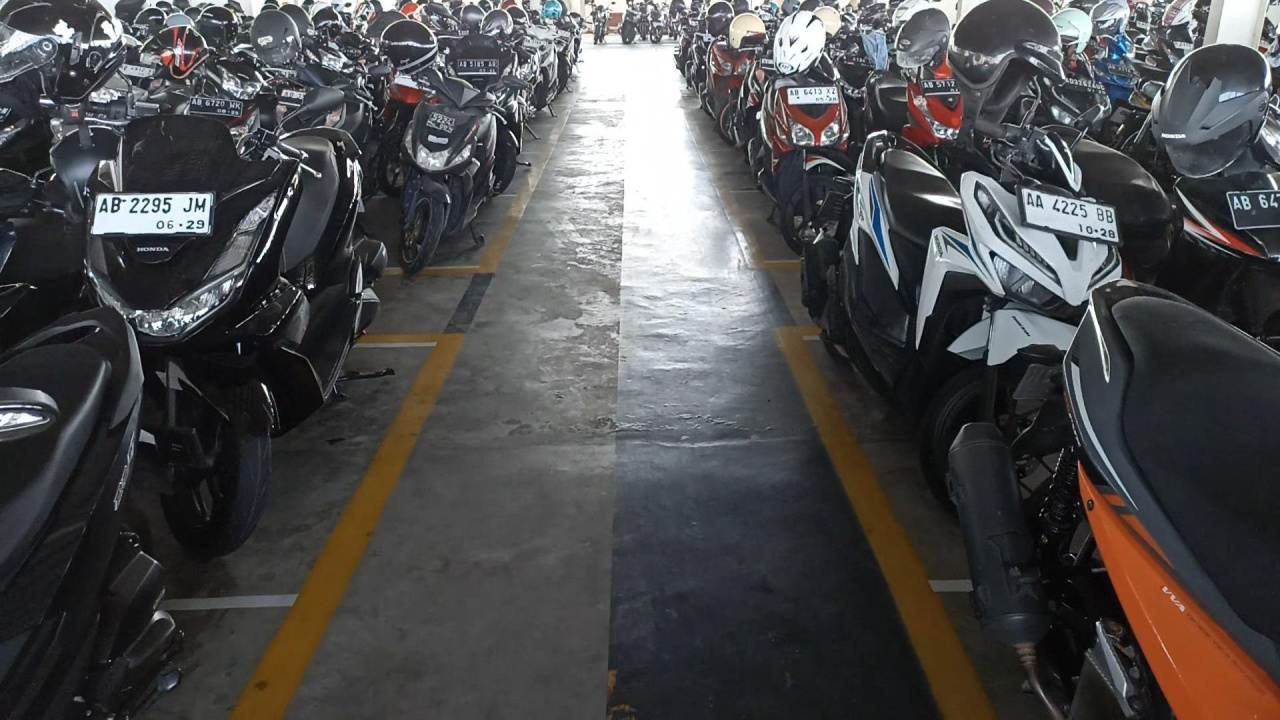plate: (1020, 187, 1120, 244), (90, 192, 213, 235), (190, 97, 243, 117), (788, 87, 839, 105), (457, 59, 498, 75)
